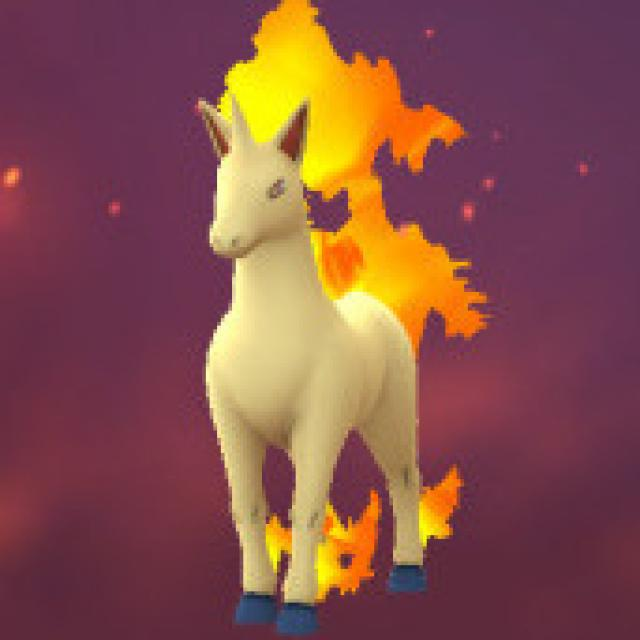Rapidash: (208, 0, 472, 629)
